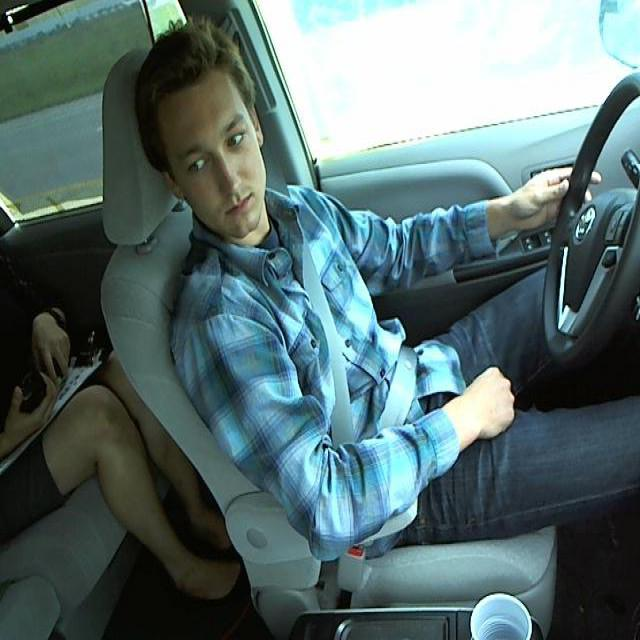seatbelt: (304, 255, 444, 461)
